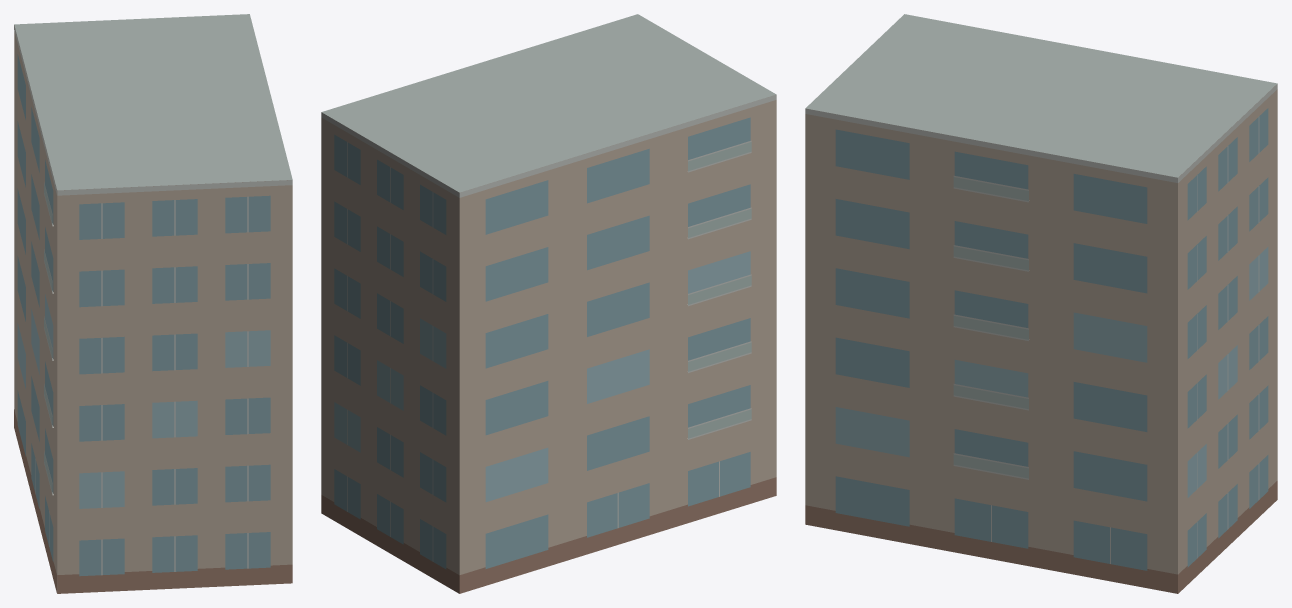
Rendered from survey-upis-33028698.glb.
3 views of the same model, side by side, from view 1: azimuth 30°, elevation 25°; view 2: azimuth 150°, elevation 25°; view 3: azimuth 270°, elevation 25° (orthographic). The views are drawn at different scales.
Parts seen in each view (by area): view 1: survey-upis-33028698.tmp; view 2: survey-upis-33028698.tmp; view 3: survey-upis-33028698.tmp.
Boxes of the visible parts, box(x1,y1,x2,y2) form: survey-upis-33028698.tmp: box(14, 14, 292, 593); survey-upis-33028698.tmp: box(321, 14, 776, 593); survey-upis-33028698.tmp: box(805, 14, 1277, 593).
Size of the model in its own units: 15.7 by 18.6 by 19.14.
